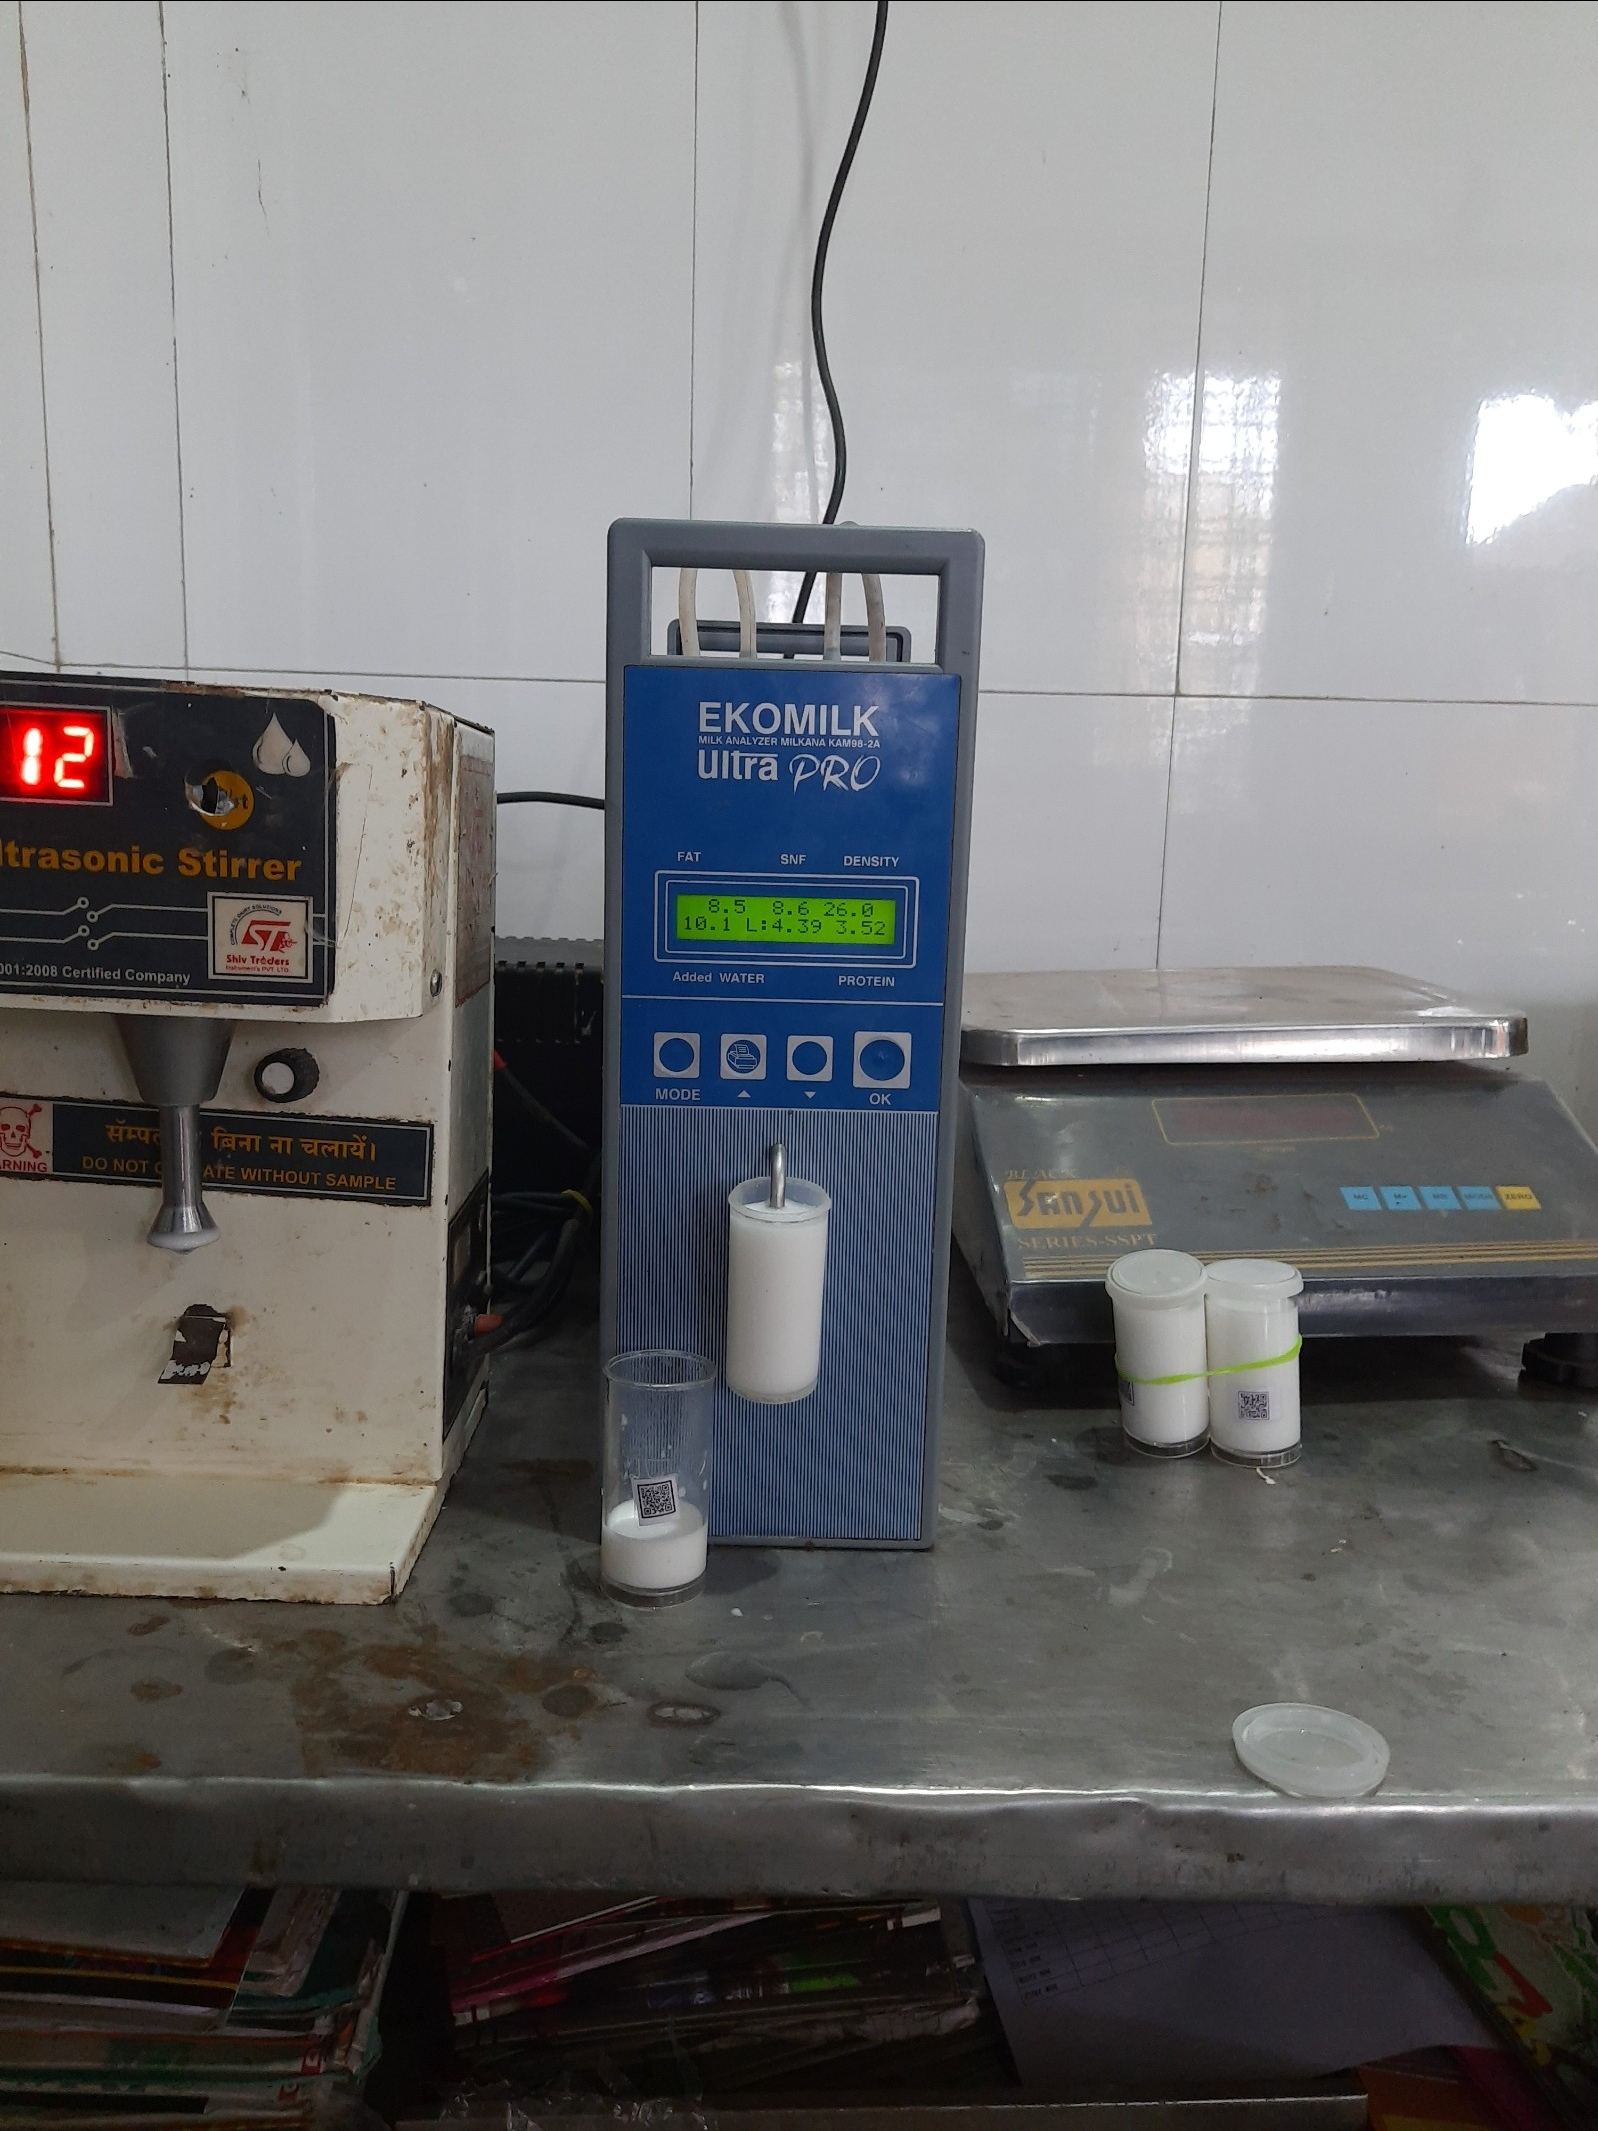lcd: (668, 881, 910, 958)
qr: (626, 1473, 690, 1532)
